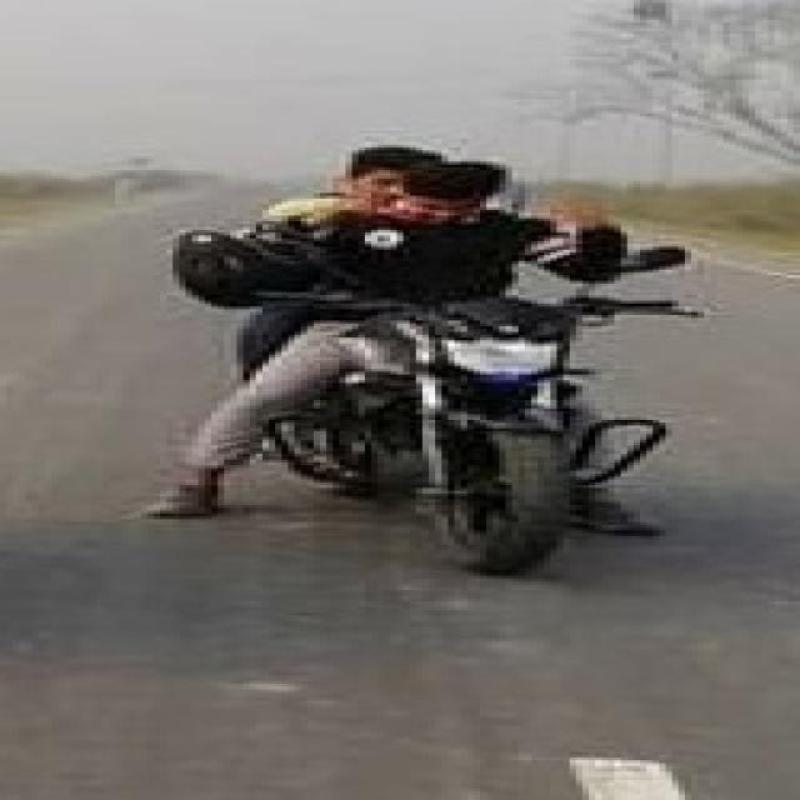nohelmet: (381, 156, 550, 224)
